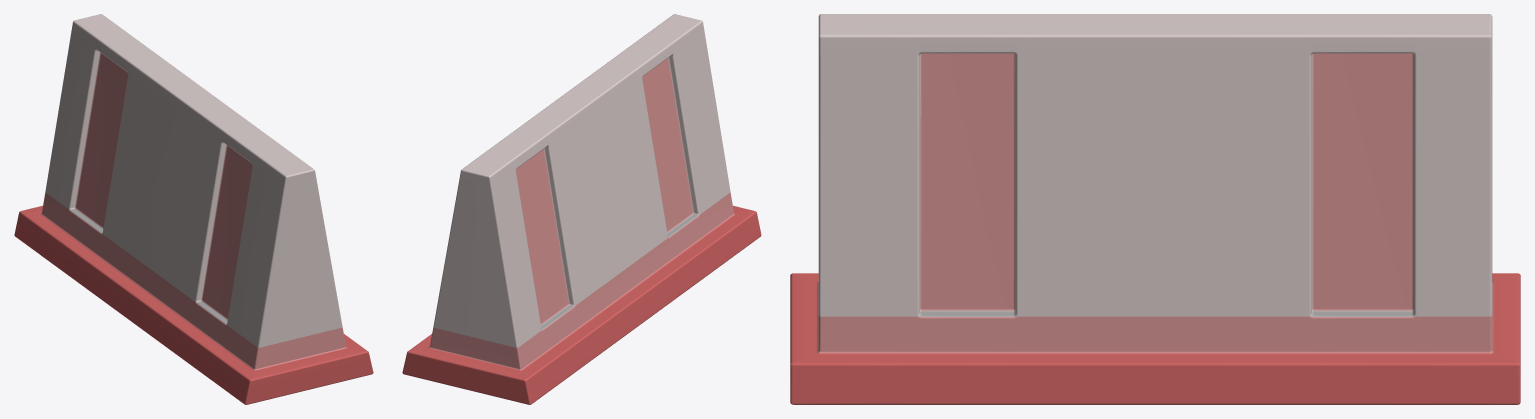
File: valla4.fbx
3 views of the same model, side by side, from view 1: azimuth 30°, elevation 25°; view 2: azimuth 150°, elevation 25°; view 3: azimuth 270°, elevation 25° (orthographic). The views are drawn at different scales.
Visible parts, largest first — view 1: pCube12; view 2: pCube12; view 3: pCube12.
Part boxes in pixels (left/top/right/bottom): pCube12: left=14, top=14, right=373, bottom=404; pCube12: left=402, top=14, right=761, bottom=404; pCube12: left=790, top=14, right=1520, bottom=404.
Bounding box in the file's own units: 1.42 × 2.21 × 4.42.
